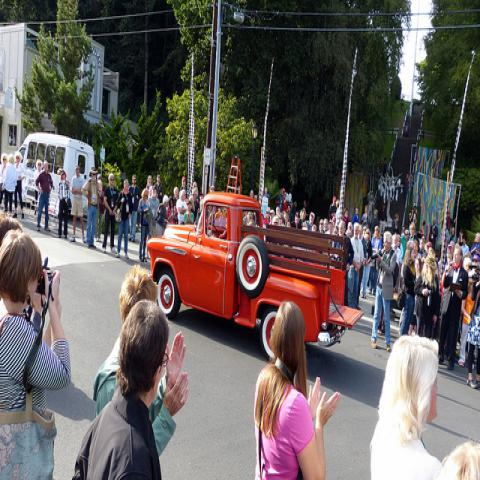truck: (146, 190, 362, 362), (1, 132, 94, 221)
